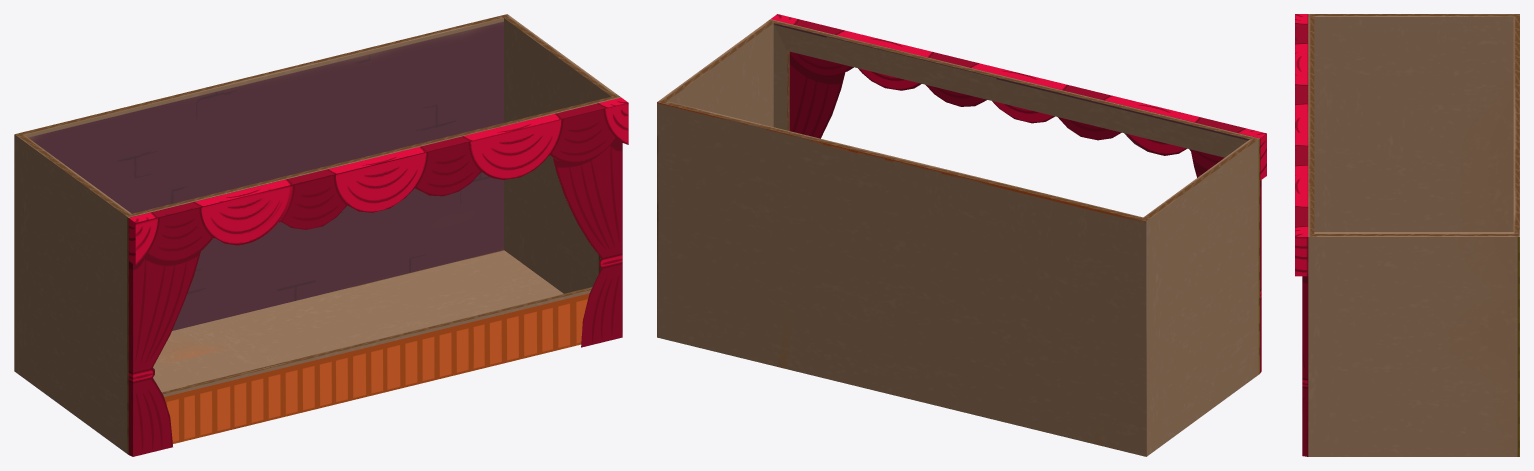
File: teatro.fbx
3 views of the same model, side by side, from view 1: azimuth 30°, elevation 25°; view 2: azimuth 150°, elevation 25°; view 3: azimuth 270°, elevation 25° (orthographic). The views are drawn at different scales.
Parts seen in each view (by area): view 1: Cube.001, Cube.002, Cube.003; view 2: Cube.001, Cube.002, Cube.003; view 3: Cube.001, Cube.002, Cube.003.
Part boxes in pixels (box(x1,y1,x2,y2)): Cube.001: box(14, 14, 620, 454); Cube.002: box(128, 97, 628, 265); Cube.003: box(128, 138, 622, 456); Cube.001: box(657, 19, 1259, 456); Cube.002: box(771, 14, 1266, 180); Cube.003: box(789, 51, 1261, 373); Cube.001: box(1308, 14, 1519, 456); Cube.002: box(1295, 14, 1308, 276); Cube.003: box(1302, 276, 1308, 456).
Bounding box in the file's own units: 69.97 × 32.18 × 29.8.
3 materials, 3 textured.
